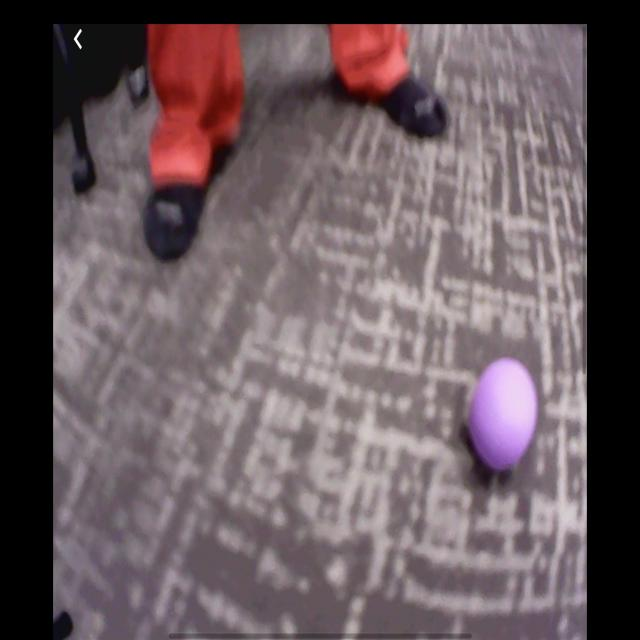ball: (466, 358, 540, 467)
